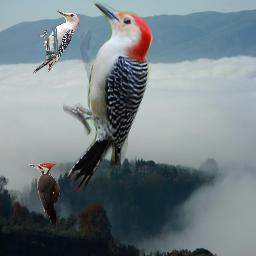Woodpecker: (63, 1, 153, 192), (32, 9, 81, 74), (28, 163, 62, 227)
